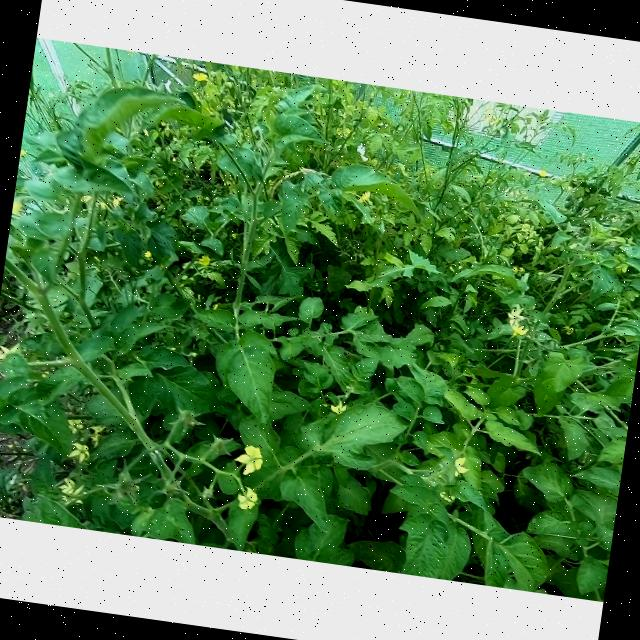Flowers: (232, 441, 268, 478), (57, 477, 88, 507), (506, 304, 532, 338), (235, 485, 260, 512), (68, 441, 92, 463), (64, 414, 86, 436), (324, 398, 350, 416), (88, 424, 105, 448), (452, 456, 470, 478), (0, 342, 13, 361), (191, 70, 208, 84), (358, 189, 372, 205), (198, 254, 212, 268), (112, 196, 125, 210), (80, 194, 91, 203), (538, 169, 549, 178), (144, 250, 153, 259)
